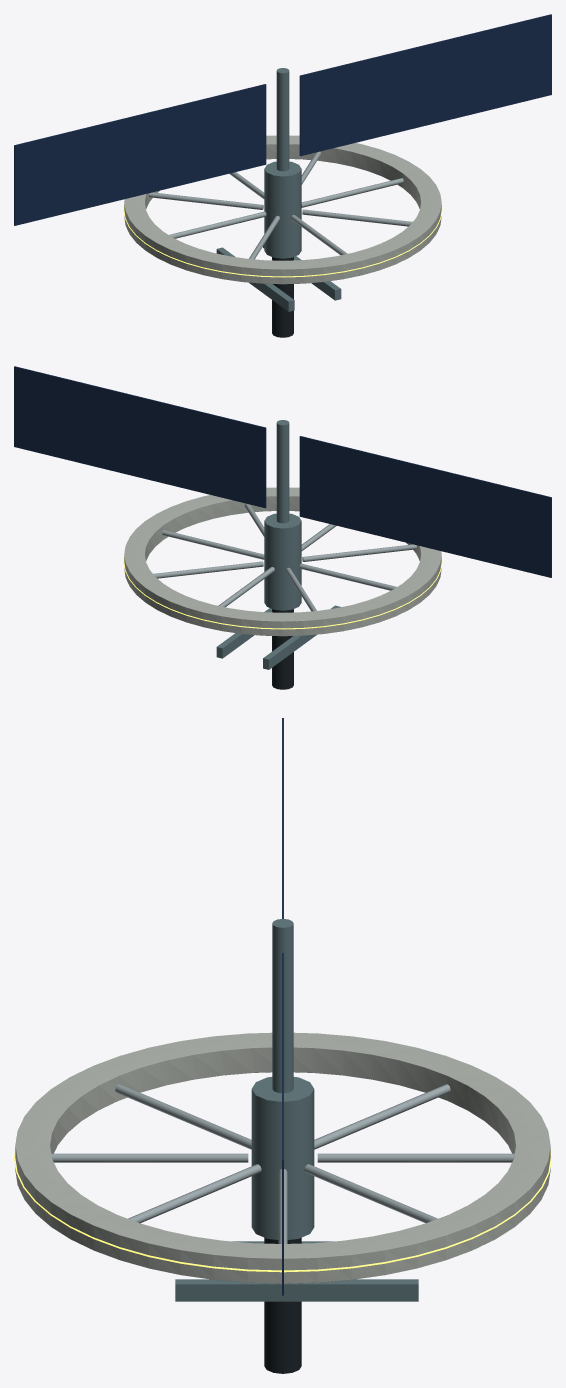
Rendered from hero-station-far.glb.
3 views of the same model, one above another, from view 1: azimuth 30°, elevation 25°; view 2: azimuth 150°, elevation 25°; view 3: azimuth 270°, elevation 25° (orthographic). The views are drawn at different scales.
Visible parts, largest first — view 1: hero-station / far; view 2: hero-station / far; view 3: hero-station / far.
Part boxes in pixels (x1,y1,x2,y2): hero-station / far: [14, 14, 551, 337]; hero-station / far: [14, 366, 551, 689]; hero-station / far: [14, 718, 551, 1373].
Bounding box in the file's own units: 301 × 140 × 155.
